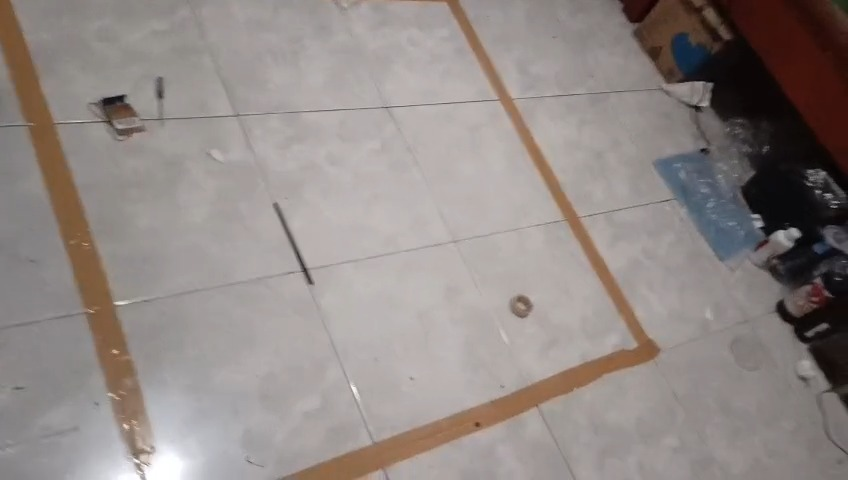floor marking: (283, 0, 659, 479), (0, 0, 163, 479)
